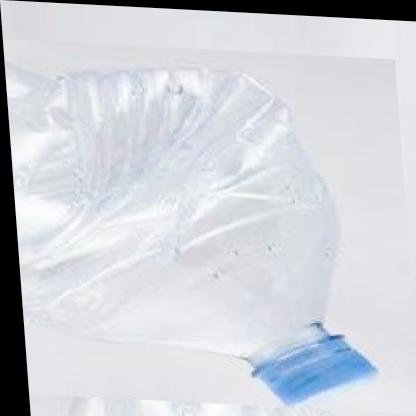trash: (7, 63, 396, 415), (252, 323, 376, 404)
